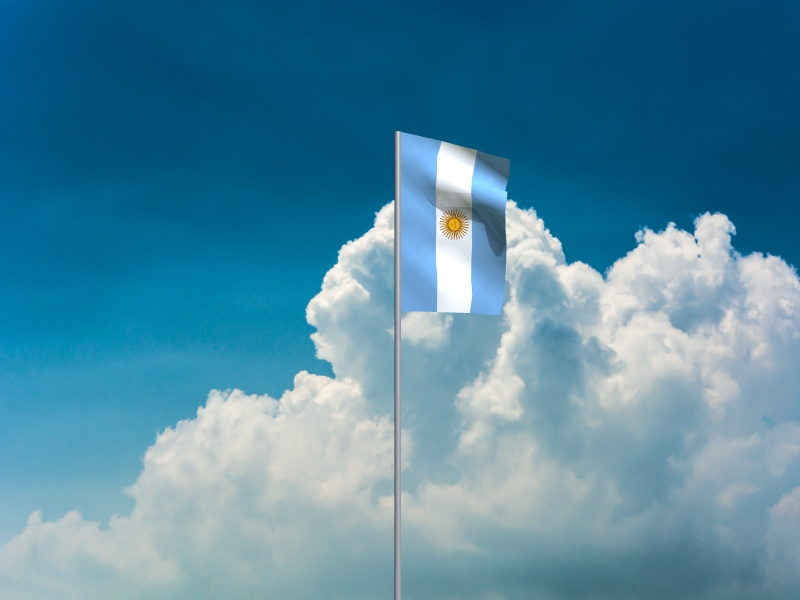ar: (401, 132, 513, 318)
